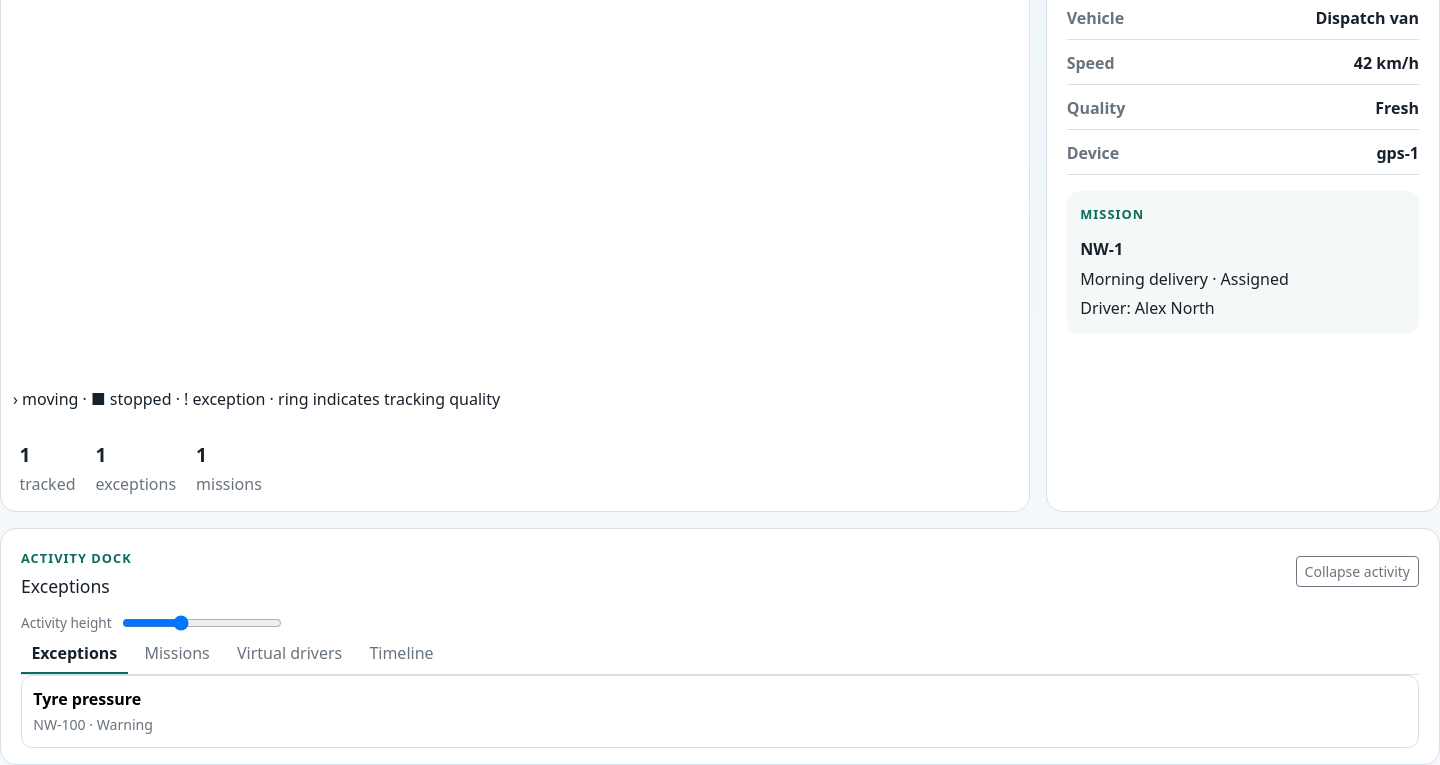
OperationsCockpitView › presents a map-first cockpit and resolves exception context
(page scrolled)
Click the button with class "cockpit-list-item" at (87, 699), box [21, 675, 1419, 748]
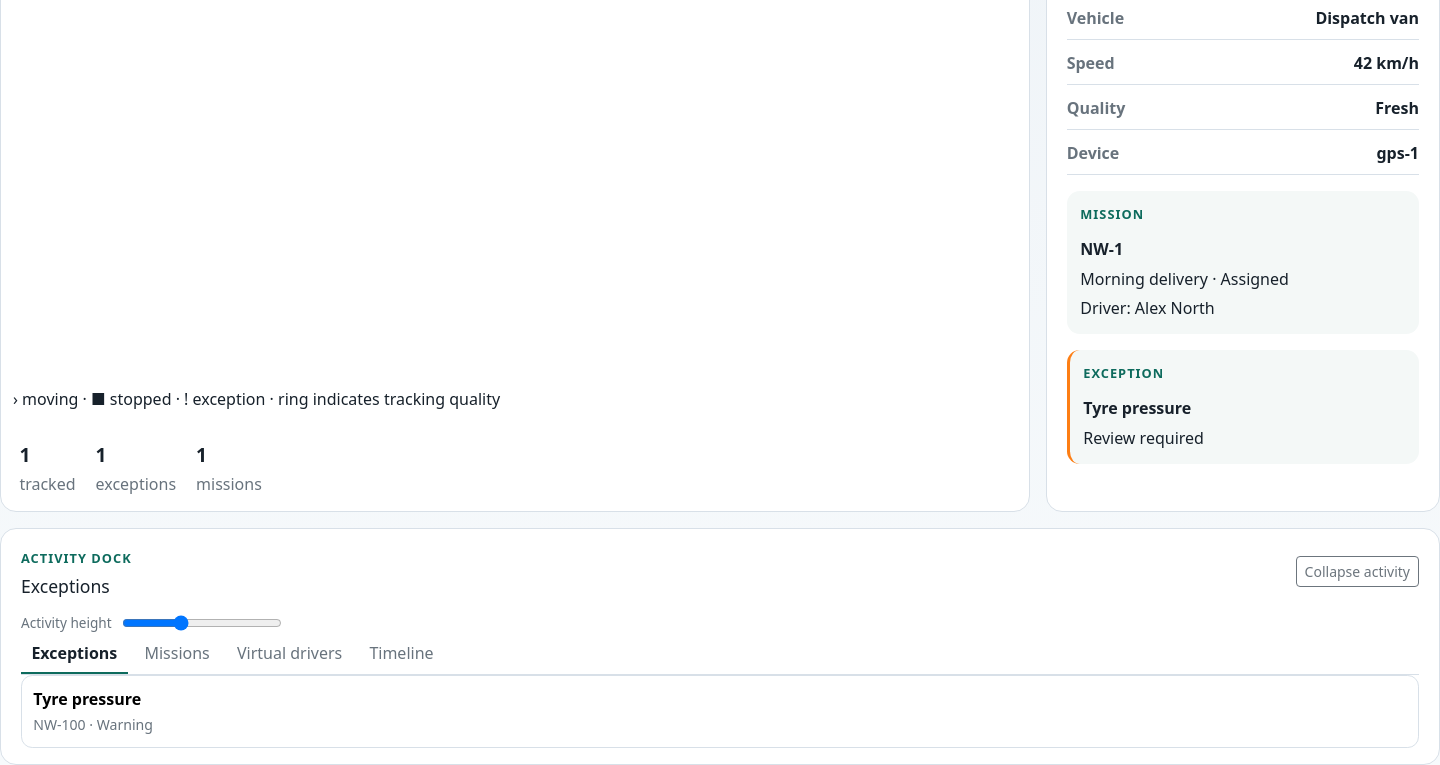
Expected: the text "Tyre pressure" is shown, [1083, 397, 1191, 419]
Set the slider labelled "Activity height" to "360" at (223, 623), box [122, 615, 282, 631]
Click the button "Collapse activity" at (1357, 571), box [1296, 556, 1419, 587]
(page scrolled)
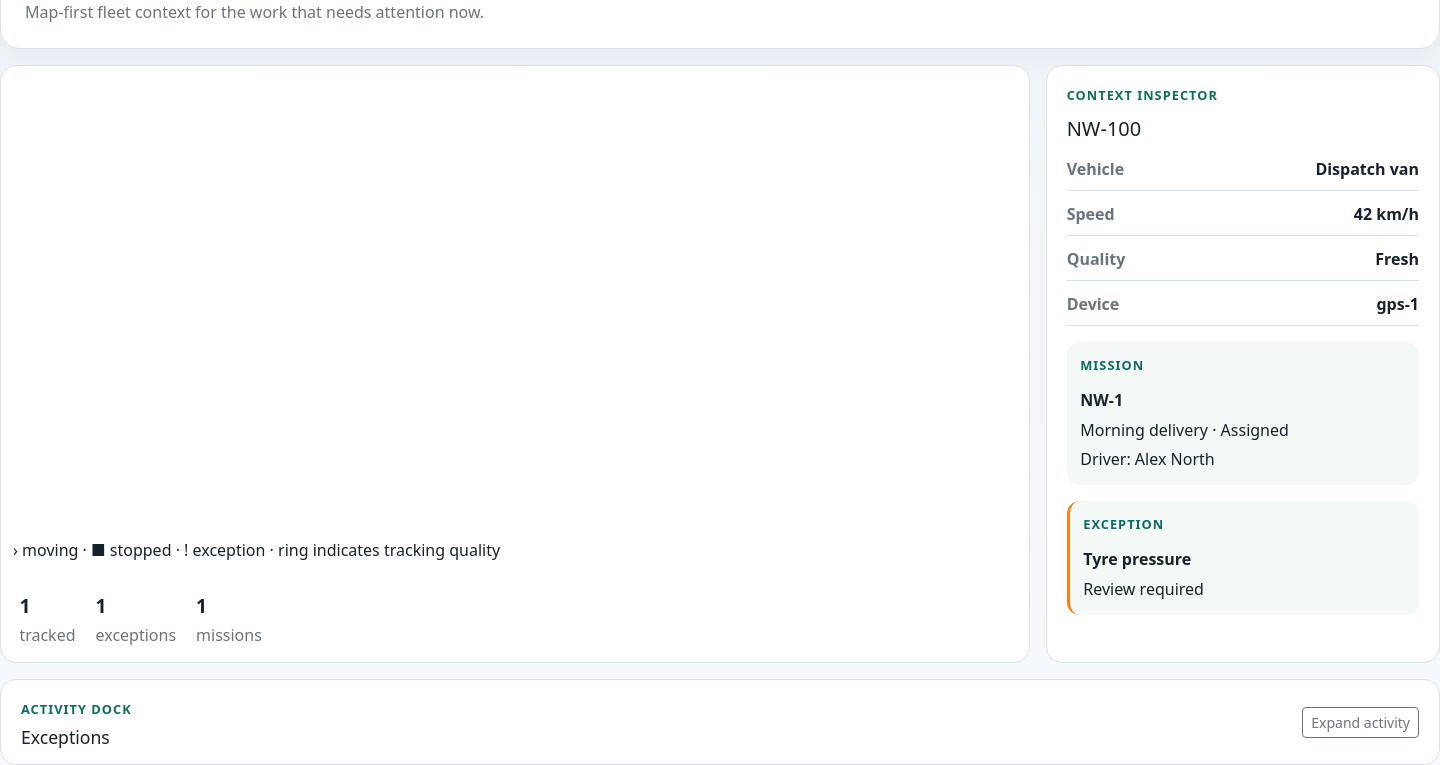
Now the button "Expand activity" is shown
Click the button "Expand activity" at (1361, 722), box [1302, 707, 1419, 738]
(page scrolled)
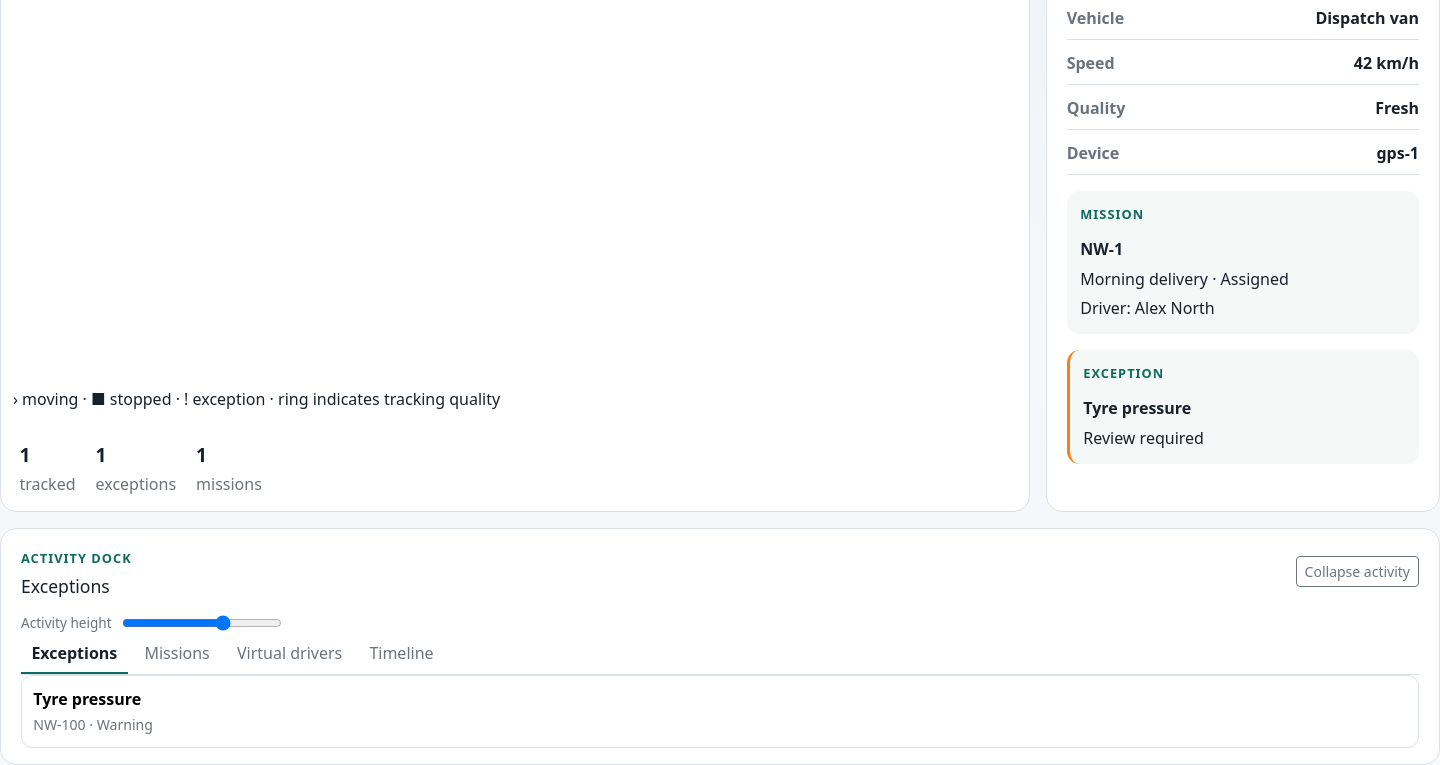
Click the tab "Missions" at (177, 654), box [134, 634, 220, 674]
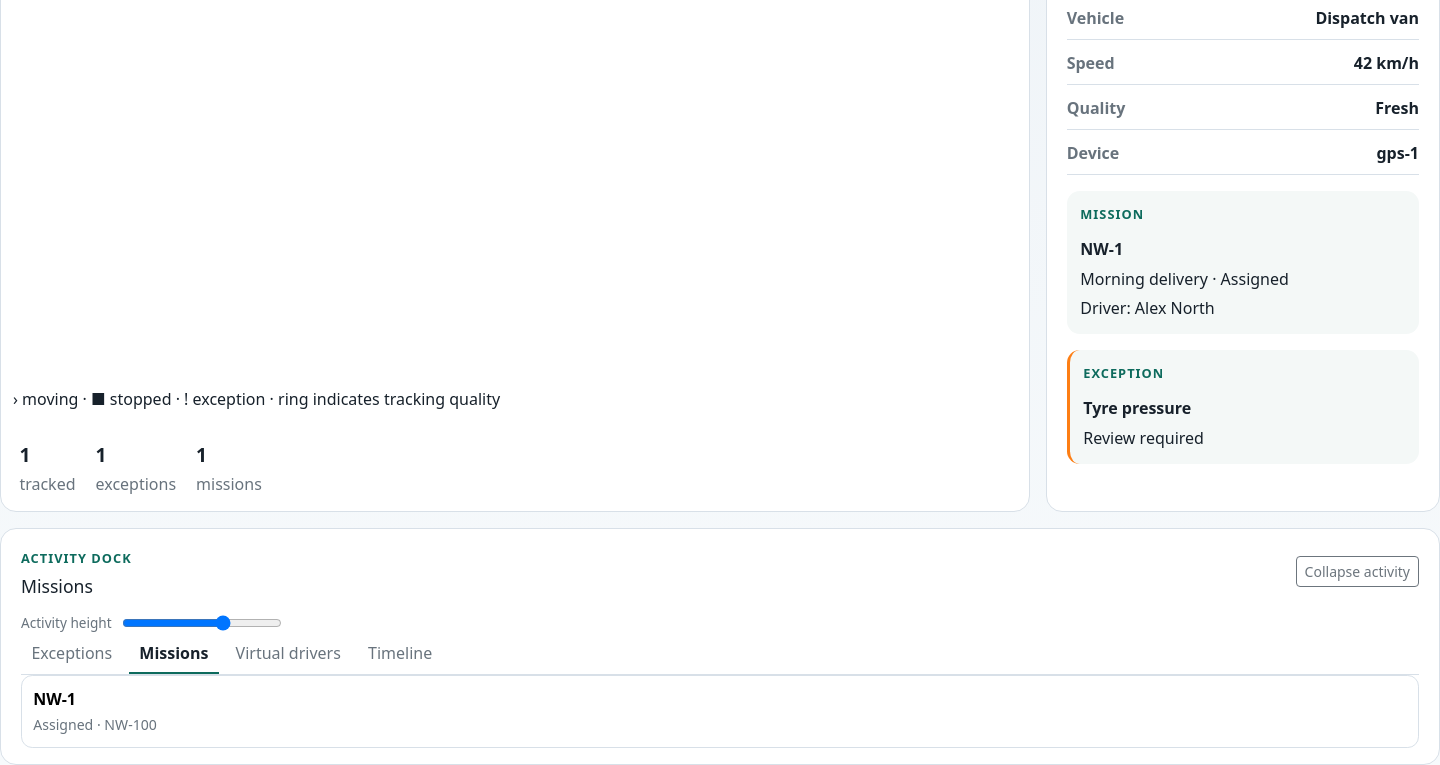
Click the button with class "cockpit-list-item" at (55, 699), box [21, 675, 1419, 748]
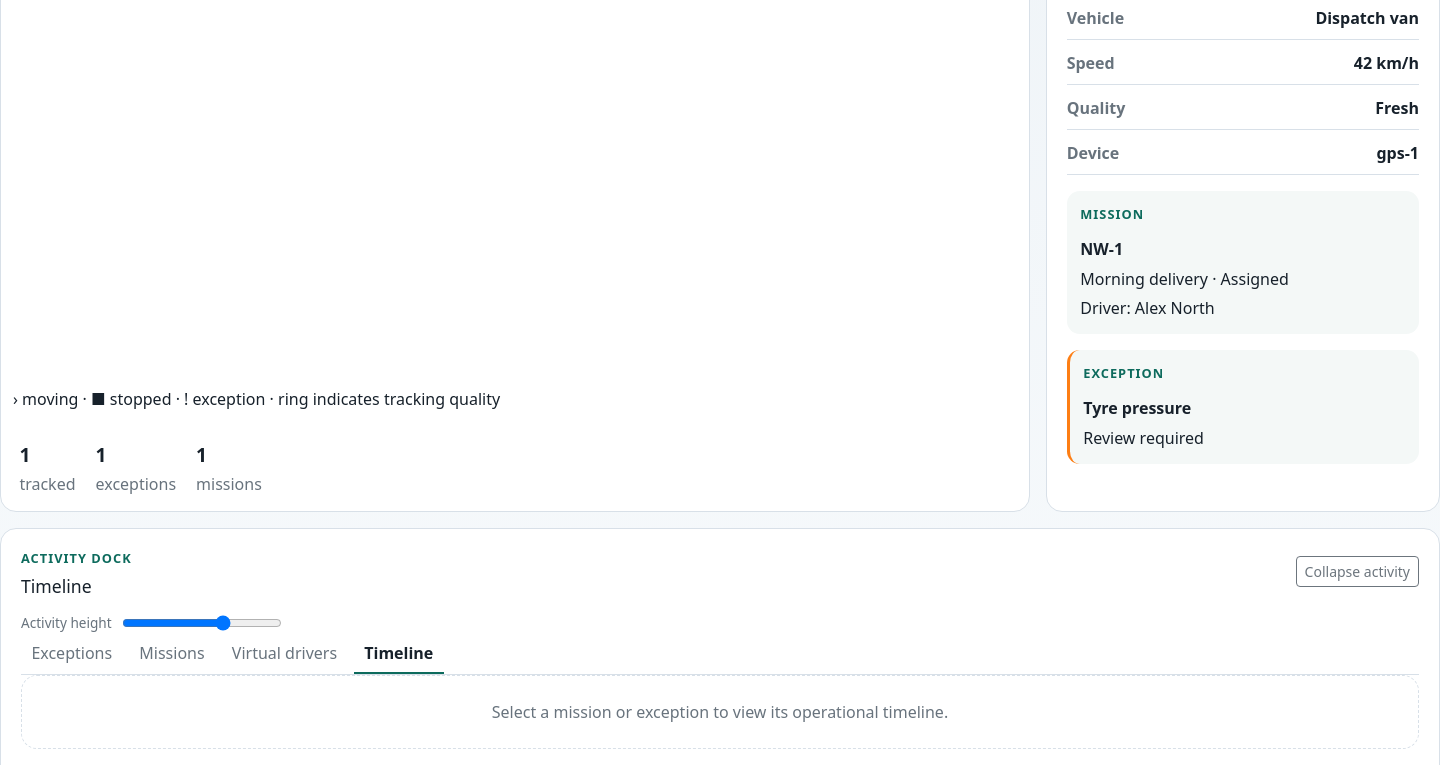
Expected: the text "Morning delivery" is shown, [1080, 268, 1289, 290]
Click the tab "Virtual drivers" at (284, 654), box [221, 634, 347, 674]
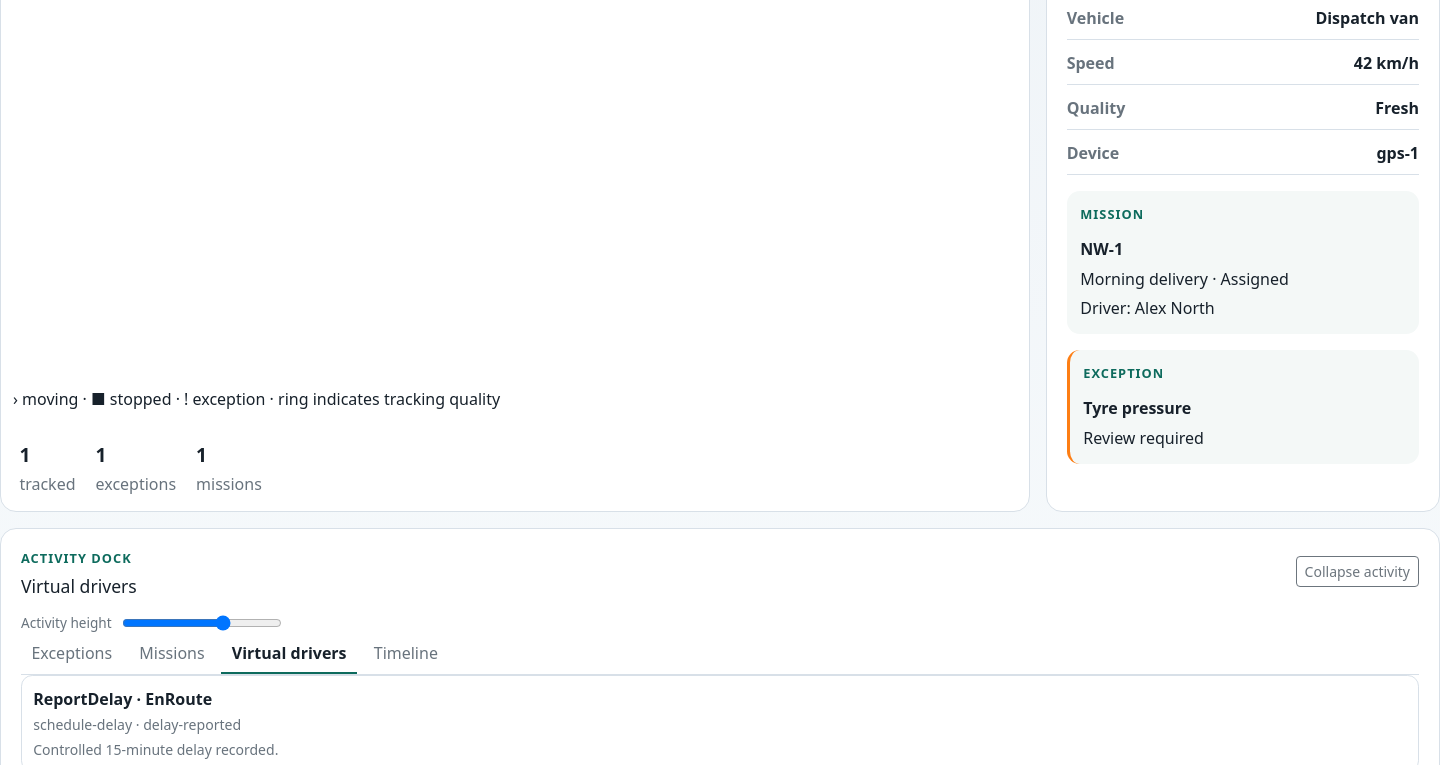
Now the text "ReportDelay · EnRoute" is shown, box [33, 688, 212, 710]
Now the text "schedule-delay · delay-reported" is shown, box [33, 715, 241, 734]
